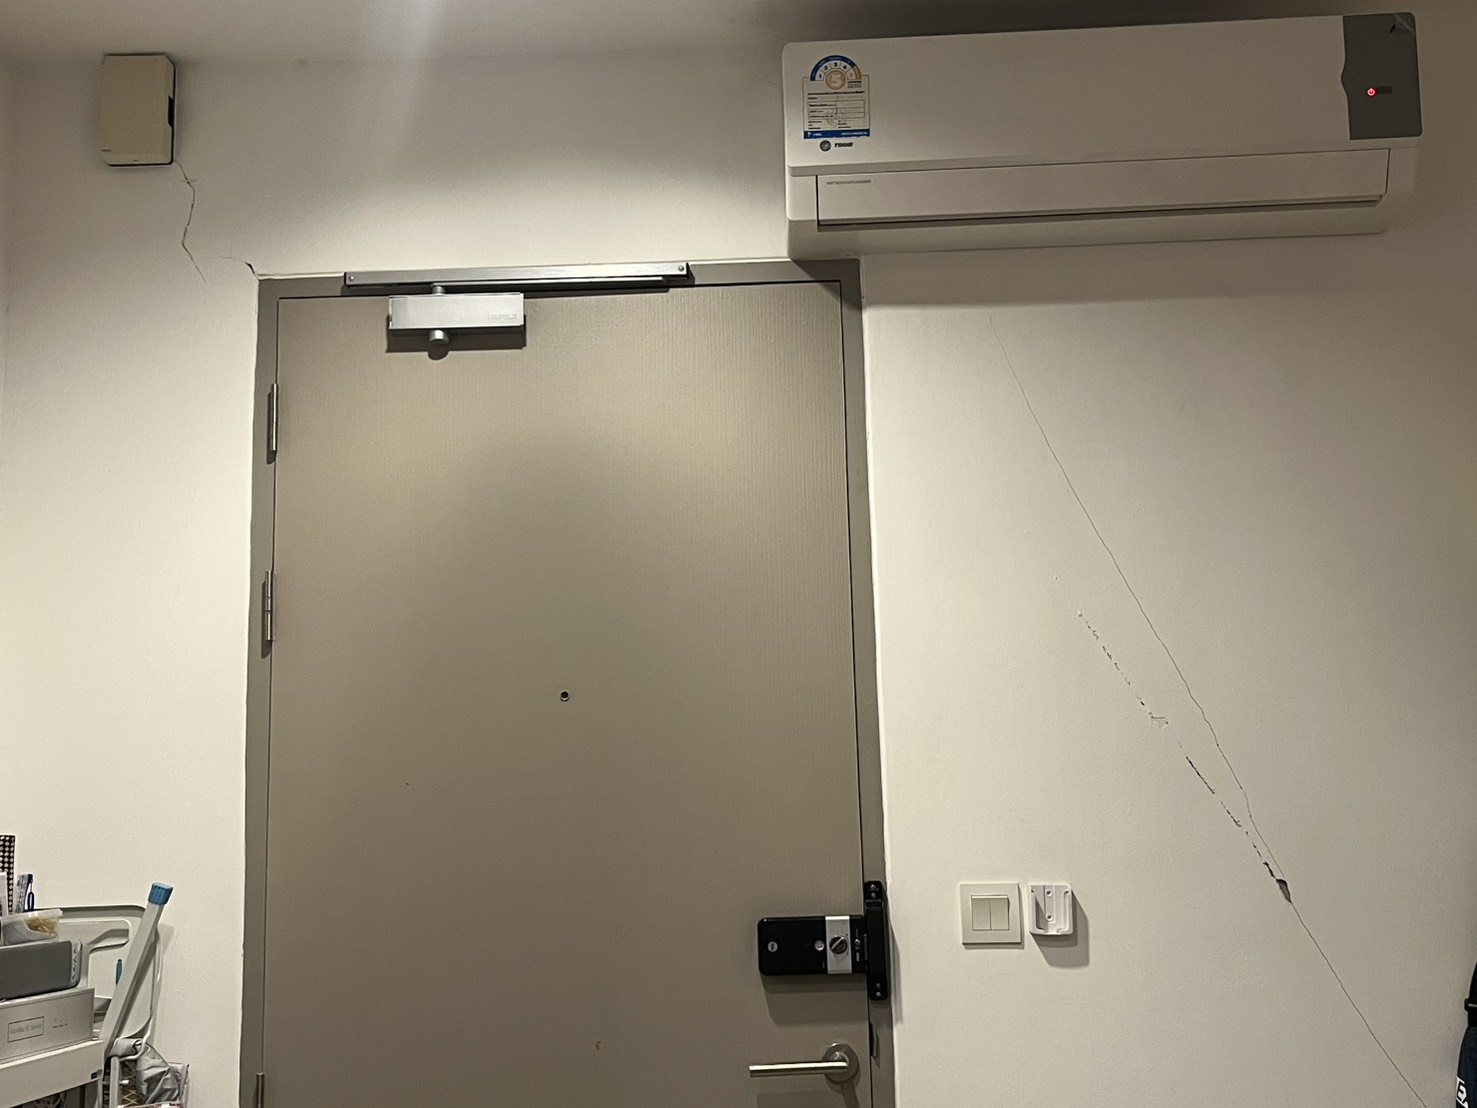Medium: (1105, 379, 1420, 1093)
